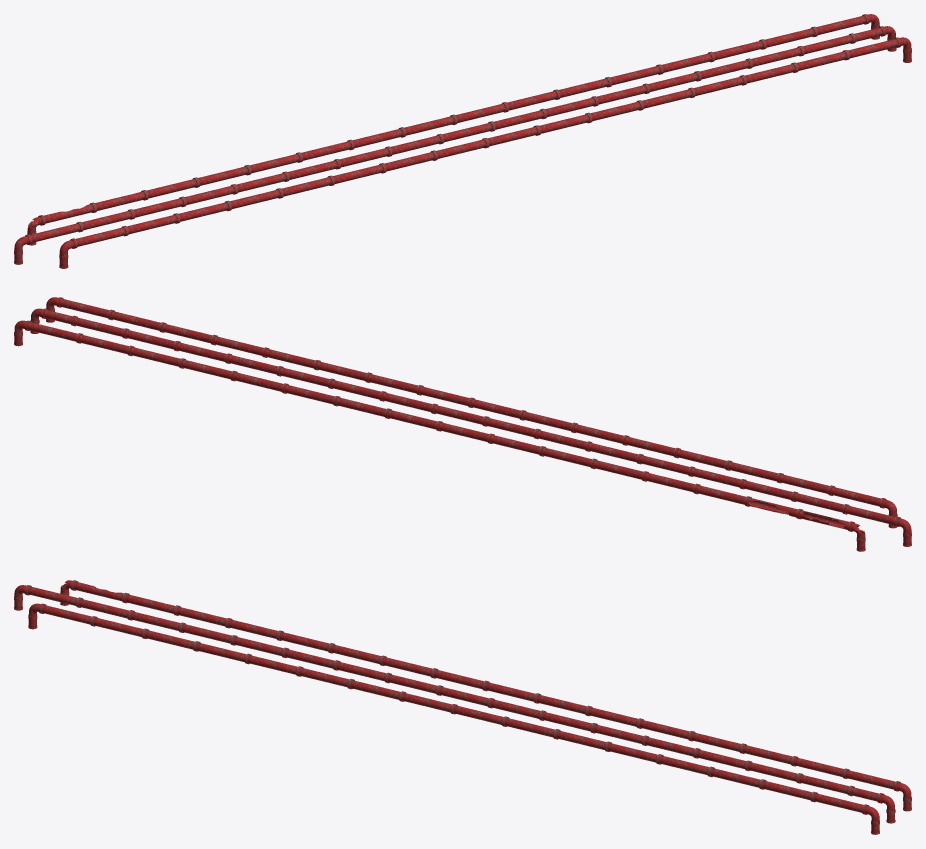
File: Damaged pipe.fbx
3 views of the same model, one above another, from view 1: azimuth 30°, elevation 25°; view 2: azimuth 150°, elevation 25°; view 3: azimuth 330°, elevation 25° (orthographic).
Visible parts, largest first — view 1: Pipe_6.002, Pipe_6.001, Pipe_6.024, Pipe_6.12493; view 2: Pipe_6.002, Pipe_6.024, Pipe_6.001; view 3: Pipe_6.002, Pipe_6.001, Pipe_6.024, Pipe_6.12493.
Part boxes in pixels (x1=…): Pipe_6.002: x1=14, y1=26, x2=896, y2=264; Pipe_6.001: x1=59, y1=37, x2=911, y2=268; Pipe_6.024: x1=27, y1=14, x2=879, y2=245; Pipe_6.12493: x1=32, y1=15, x2=866, y2=243; Pipe_6.002: x1=30, y1=308, x2=911, y2=546; Pipe_6.024: x1=14, y1=320, x2=865, y2=551; Pipe_6.001: x1=46, y1=297, x2=897, y2=528; Pipe_6.002: x1=14, y1=585, x2=895, y2=823; Pipe_6.001: x1=28, y1=603, x2=879, y2=834; Pipe_6.024: x1=60, y1=580, x2=911, y2=811; Pipe_6.12493: x1=27, y1=581, x2=894, y2=801.
Size of the model in its own units: 3615 by 100 by 263.
2 materials, 2 textured.
